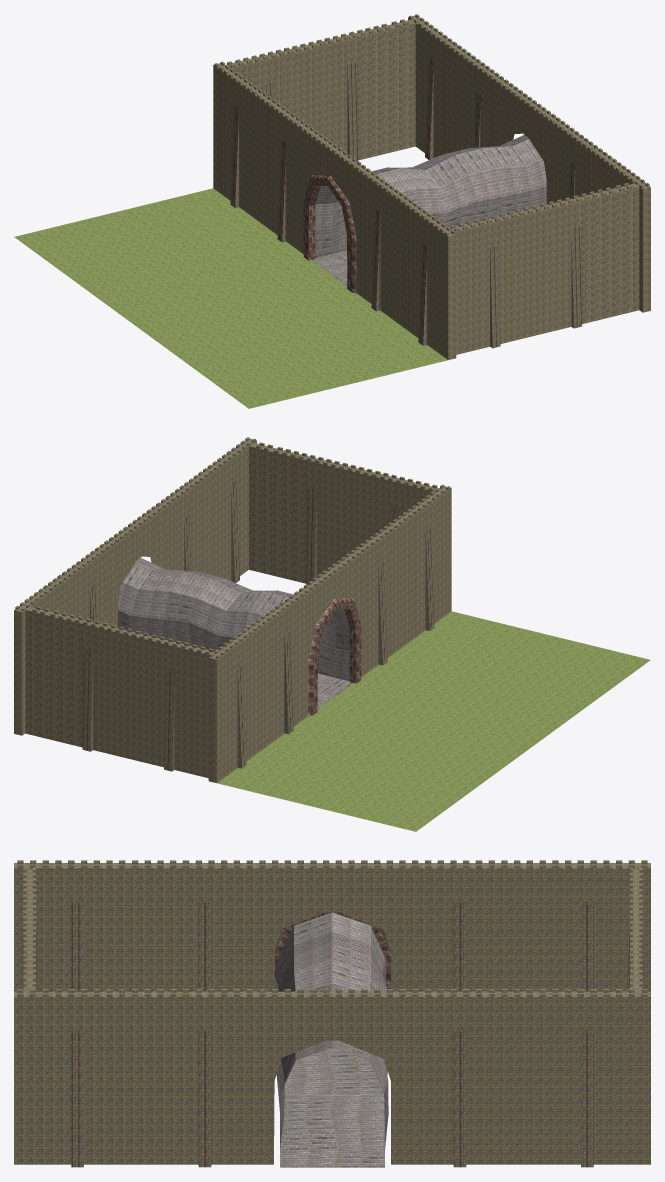
The model's file is map50GBDE.fbx.
3 renders of one model, top to bottom at view 1: azimuth 30°, elevation 25°; view 2: azimuth 150°, elevation 25°; view 3: azimuth 270°, elevation 25°, orthographic. The views are drawn at different scales.
Parts seen in each view (by area): view 1: map50GBDE_Layer2, map50GBDE_Layer1, map50GBDE_Layer4, map50GBDE_Layer3, map50GBDE_Layer6, map50GBDE_Layer5; view 2: map50GBDE_Layer2, map50GBDE_Layer1, map50GBDE_Layer4, map50GBDE_Layer3, map50GBDE_Layer6, map50GBDE_Layer5; view 3: map50GBDE_Layer2, map50GBDE_Layer4, map50GBDE_Layer3, map50GBDE_Layer6, map50GBDE_Layer5.
Boxes of the visible parts, bbox=[...] form: map50GBDE_Layer2: bbox=[213, 15, 650, 359]; map50GBDE_Layer1: bbox=[14, 188, 447, 408]; map50GBDE_Layer4: bbox=[312, 135, 546, 285]; map50GBDE_Layer3: bbox=[230, 57, 581, 348]; map50GBDE_Layer6: bbox=[214, 14, 649, 235]; map50GBDE_Layer5: bbox=[303, 175, 356, 293]; map50GBDE_Layer2: bbox=[14, 438, 451, 782]; map50GBDE_Layer1: bbox=[217, 611, 650, 831]; map50GBDE_Layer4: bbox=[118, 558, 352, 708]; map50GBDE_Layer3: bbox=[82, 480, 434, 771]; map50GBDE_Layer6: bbox=[15, 437, 450, 658]; map50GBDE_Layer5: bbox=[308, 598, 361, 716]; map50GBDE_Layer2: bbox=[14, 863, 650, 1164]; map50GBDE_Layer4: bbox=[274, 912, 388, 1167]; map50GBDE_Layer3: bbox=[20, 902, 645, 1167]; map50GBDE_Layer6: bbox=[17, 860, 647, 996]; map50GBDE_Layer5: bbox=[274, 912, 390, 988].
Size of the model in its own units: 1 by 0.295 by 1.
